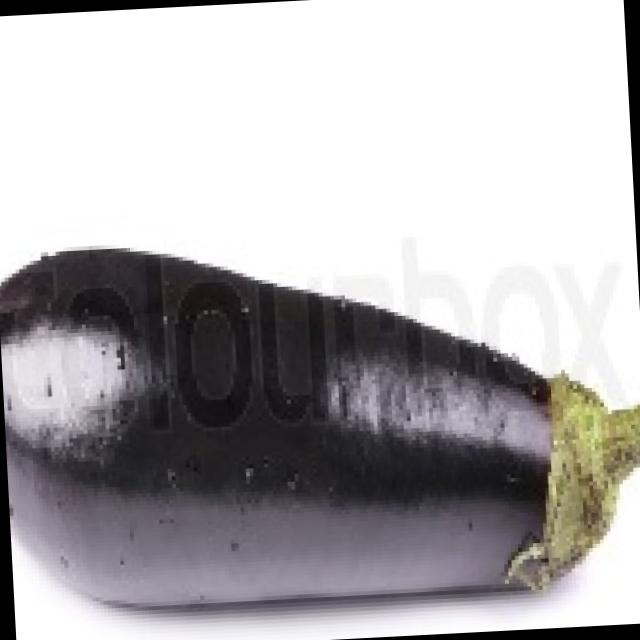eggplant: (0, 208, 607, 640)
